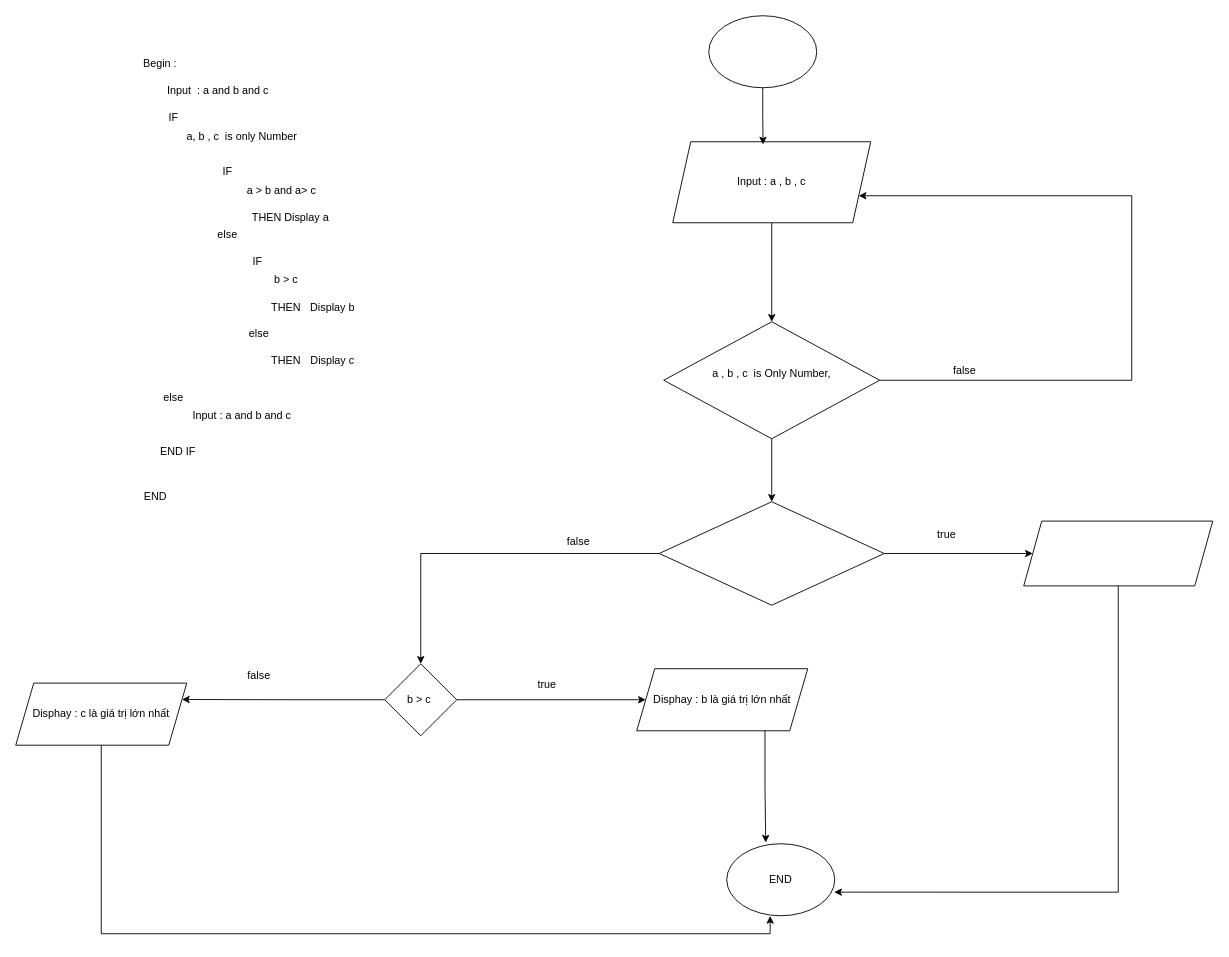
Image size: 1229x957. Some labels were removed from this diagram. The centre of each missing label's shape, as x and y in pixels:
a > b and a > c: [771,553]
Begin: [762,51]
Display a là giá trị lớn nhất: [1118,553]
